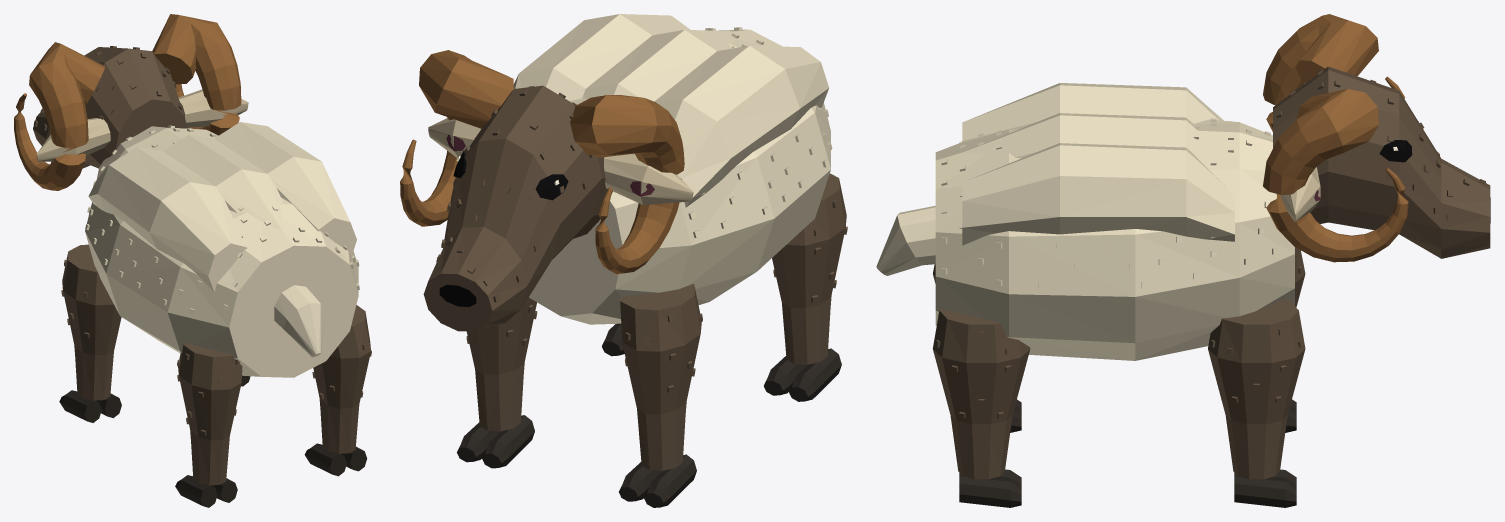
The model's file is Ram.fbx.
3 renders of one model, left to right at view 1: azimuth 30°, elevation 25°; view 2: azimuth 150°, elevation 25°; view 3: azimuth 270°, elevation 25°, orthographic. The views are drawn at different scales.
Visible parts, largest first — view 1: Import3D_Core, Import3D_Head, Import3D_Horn-1_0, Import3D_LegBL, Import3D_LegFL, Import3D_Horn1_0, Import3D_LegBR, Import3D_Tail, Import3D_EarL, Import3D_EarR, Import3D_LegBRFoot, Import3D_LegFLFoot (+1 smaller); view 2: Import3D_Core, Import3D_Head, Import3D_LegFL, Import3D_Horn-1_0, Import3D_LegBL, Import3D_Horn1_0, Import3D_LegFR, Import3D_EarL, Import3D_LegFRFoot, Import3D_LegBLFoot, Import3D_LegFLFoot, Import3D_EarR (+2 smaller); view 3: Import3D_Core, Import3D_Head, Import3D_LegFR, Import3D_Horn1_0, Import3D_LegBR, Import3D_Horn-1_0, Import3D_Tail, Import3D_LegFRFoot, Import3D_LegBRFoot, Import3D_EarR.
Part boxes in pixels (bbox=[...]): Import3D_Core: bbox=[85, 122, 359, 377]; Import3D_Head: bbox=[33, 46, 186, 168]; Import3D_Horn-1_0: bbox=[14, 42, 104, 190]; Import3D_LegBL: bbox=[177, 342, 242, 485]; Import3D_LegFL: bbox=[61, 244, 121, 400]; Import3D_Horn1_0: bbox=[152, 14, 241, 135]; Import3D_LegBR: bbox=[312, 305, 371, 453]; Import3D_Tail: bbox=[274, 285, 324, 357]; Import3D_EarL: bbox=[36, 118, 110, 161]; Import3D_EarR: bbox=[178, 89, 248, 127]; Import3D_LegBRFoot: bbox=[304, 443, 367, 476]; Import3D_LegFLFoot: bbox=[59, 390, 121, 422]; Import3D_Core: bbox=[513, 14, 832, 324]; Import3D_Head: bbox=[423, 85, 612, 331]; Import3D_LegFL: bbox=[620, 283, 702, 470]; Import3D_Horn-1_0: bbox=[570, 95, 684, 273]; Import3D_LegBL: bbox=[772, 173, 847, 364]; Import3D_Horn1_0: bbox=[400, 50, 513, 226]; Import3D_LegFR: bbox=[466, 297, 537, 431]; Import3D_EarL: bbox=[604, 153, 693, 204]; Import3D_LegFRFoot: bbox=[457, 415, 534, 468]; Import3D_LegBLFoot: bbox=[764, 348, 841, 401]; Import3D_LegFLFoot: bbox=[619, 454, 696, 507]; Import3D_EarR: bbox=[428, 118, 480, 158]; Import3D_Core: bbox=[935, 83, 1294, 360]; Import3D_Head: bbox=[1273, 66, 1490, 258]; Import3D_LegFR: bbox=[1208, 299, 1305, 479]; Import3D_Horn1_0: bbox=[1263, 89, 1408, 262]; Import3D_LegBR: bbox=[932, 309, 1030, 479]; Import3D_Horn-1_0: bbox=[1263, 14, 1404, 131]; Import3D_Tail: bbox=[876, 205, 935, 275]; Import3D_LegFRFoot: bbox=[1234, 469, 1296, 507]; Import3D_LegBRFoot: bbox=[959, 469, 1021, 507]; Import3D_EarR: bbox=[1280, 167, 1320, 221].
Size of the model in its own units: 131 by 204 by 277.
Materials: 1 (1 with a texture image).
